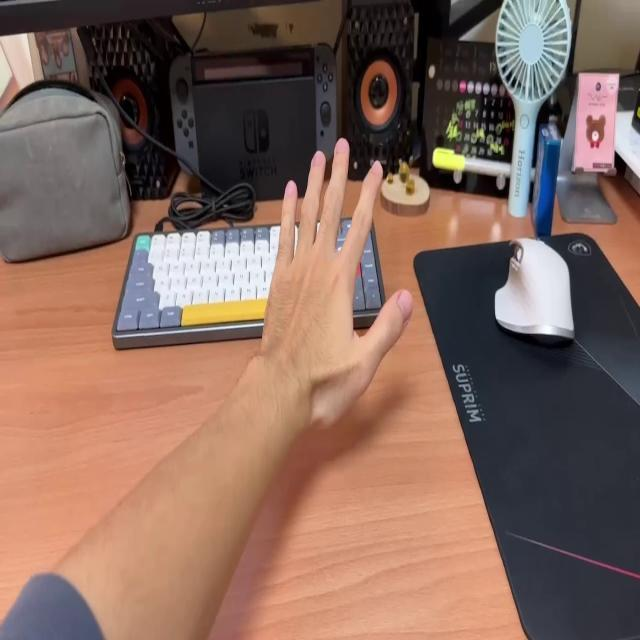keyboard-with-hands: (113, 217, 381, 332)
